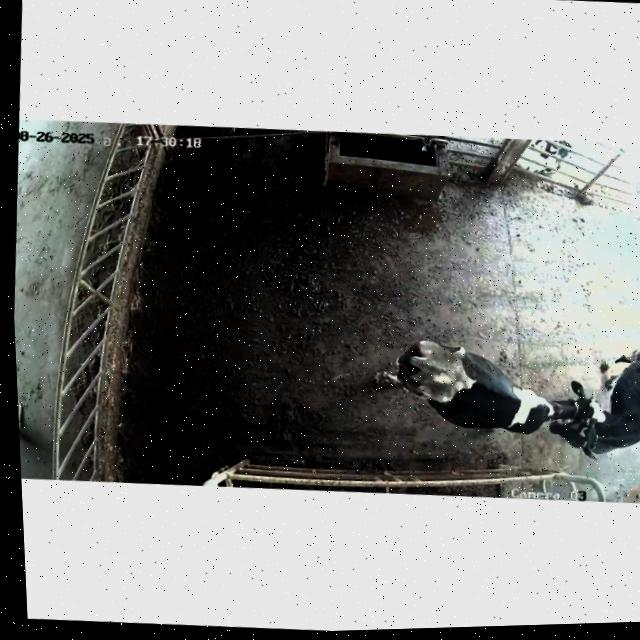stand: (375, 325, 610, 457), (541, 323, 640, 467)
